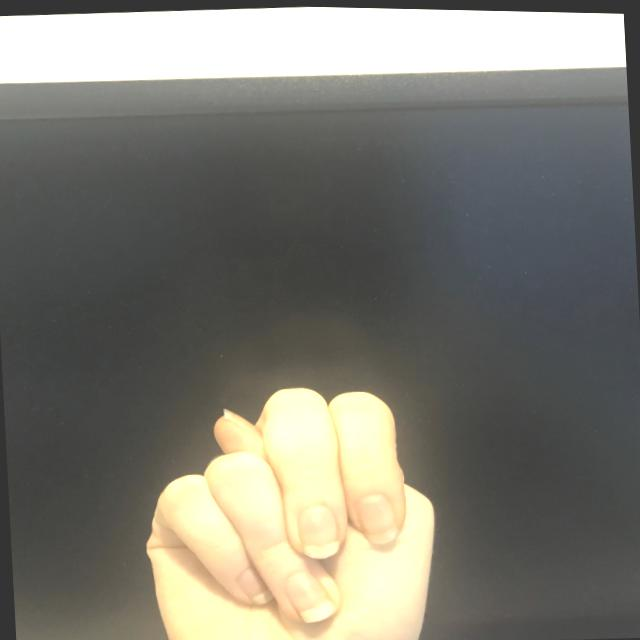N: (128, 368, 456, 639)
